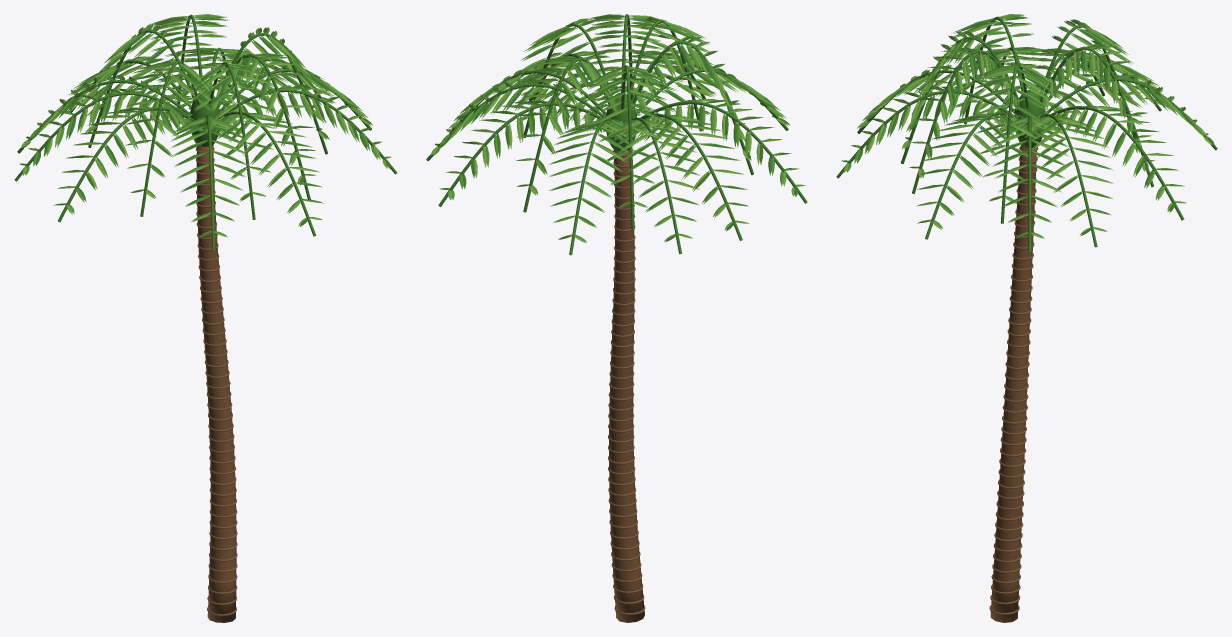
File: palm_detailed.glb
3 renders of one model, left to right at view 1: azimuth 30°, elevation 25°; view 2: azimuth 150°, elevation 25°; view 3: azimuth 270°, elevation 25°, orthographic. The views are drawn at different scales.
Visible parts, largest first — view 1: Palm leaflets 0, Palm leaflets 2, Palm trunk, Palm leaflets 1, Crownshaft, Arching frond rachis.012, Arching frond rachis.004, Arching frond rachis.015, Arching frond rachis.009, Arching frond rachis.002, Arching frond rachis.010, Arching frond rachis.005 (+1 smaller); view 2: Palm leaflets 2, Palm leaflets 1, Palm leaflets 0, Palm trunk, Arching frond rachis.014, Arching frond rachis.003, Arching frond rachis.004, Arching frond rachis.011, Arching frond rachis.009, Crownshaft, Arching frond rachis.006, Arching frond rachis.001 (+1 smaller); view 3: Palm leaflets 1, Palm leaflets 2, Palm leaflets 0, Palm trunk, Arching frond rachis.013, Arching frond rachis.003, Arching frond rachis.010, Crownshaft, Arching frond rachis.005, Arching frond rachis.002, Arching frond rachis.011, Arching frond rachis.008 (+1 smaller).
Boxes of the visible parts, x1,y1,x2,y2 form: Palm leaflets 0: (19,17,390,237); Palm leaflets 2: (21,14,390,237); Palm trunk: (196,145,236,622); Palm leaflets 1: (23,15,388,236); Crownshaft: (190,92,219,146); Arching frond rachis.012: (140,60,200,216); Arching frond rachis.004: (58,107,194,222); Arching frond rachis.015: (208,62,255,219); Arching frond rachis.009: (14,92,190,181); Arching frond rachis.002: (218,111,316,236); Arching frond rachis.010: (229,54,310,199); Arching frond rachis.005: (226,89,397,174); Palm leaflets 2: (430,15,805,243); Palm leaflets 1: (433,14,801,241); Palm leaflets 0: (435,15,797,242); Palm trunk: (609,150,644,622); Arching frond rachis.014: (621,65,634,229); Arching frond rachis.003: (438,102,607,206); Arching frond rachis.004: (640,101,807,203); Arching frond rachis.011: (523,57,612,212); Arching frond rachis.009: (640,113,742,240); Crownshaft: (606,92,636,151); Arching frond rachis.006: (569,118,614,255); Arching frond rachis.001: (631,117,681,254); Palm leaflets 1: (846,15,1204,237); Palm leaflets 2: (844,14,1211,238); Palm leaflets 0: (842,17,1214,238); Palm trunk: (990,144,1036,622); Arching frond rachis.013: (1000,62,1028,223); Arching frond rachis.003: (1050,106,1184,220); Arching frond rachis.010: (912,49,1020,193); Crownshaft: (1014,90,1044,147); Arching frond rachis.005: (925,112,1019,239); Arching frond rachis.002: (836,90,1014,178); Arching frond rachis.011: (1040,46,1153,187); Arching frond rachis.008: (1039,114,1097,247).
Bounding box in the file's own units: 5.39 × 8.88 × 5.33.
